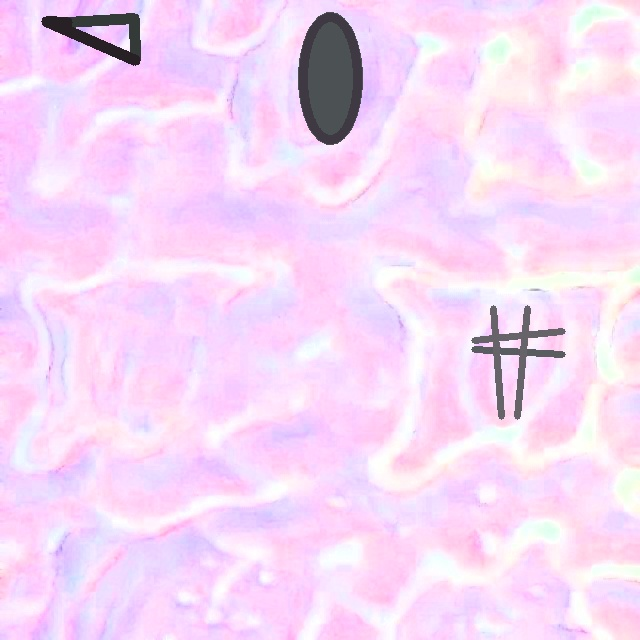open: (471, 305, 565, 419), (299, 12, 361, 144), (41, 17, 138, 65)
